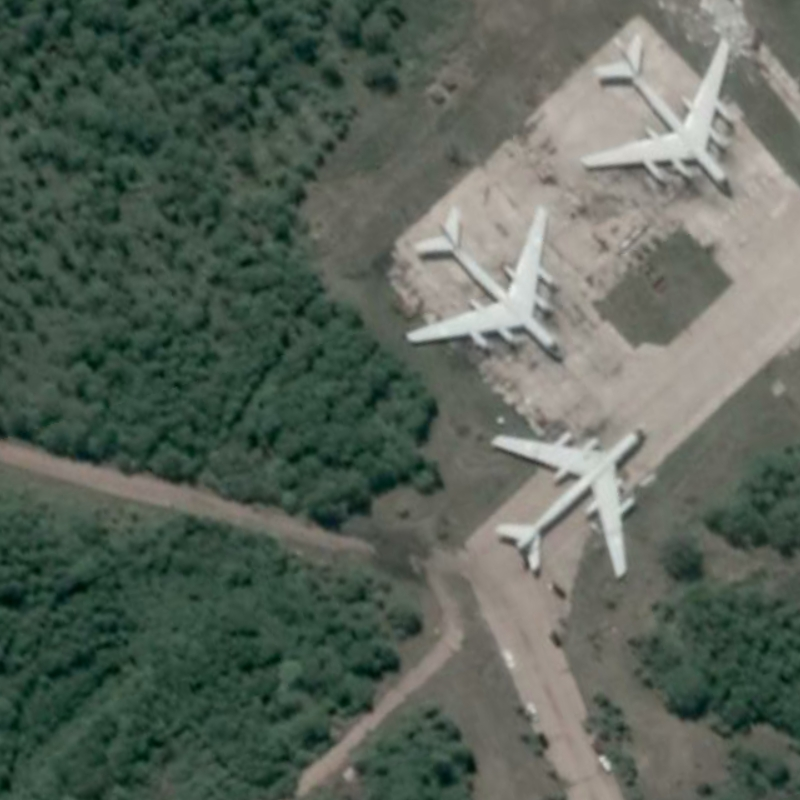A17: (574, 30, 746, 200), (398, 201, 565, 368), (483, 425, 652, 582)
